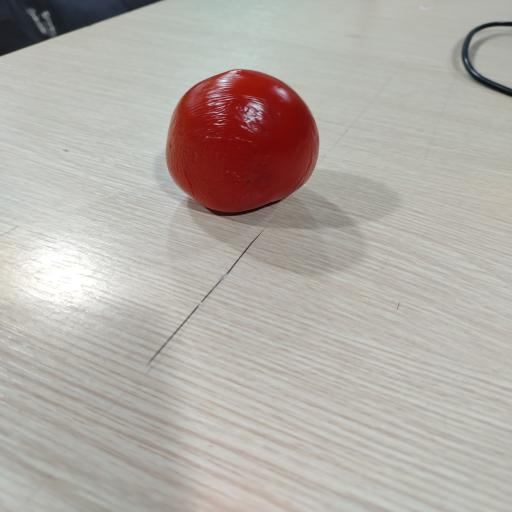spoiled: (166, 69, 318, 212)
